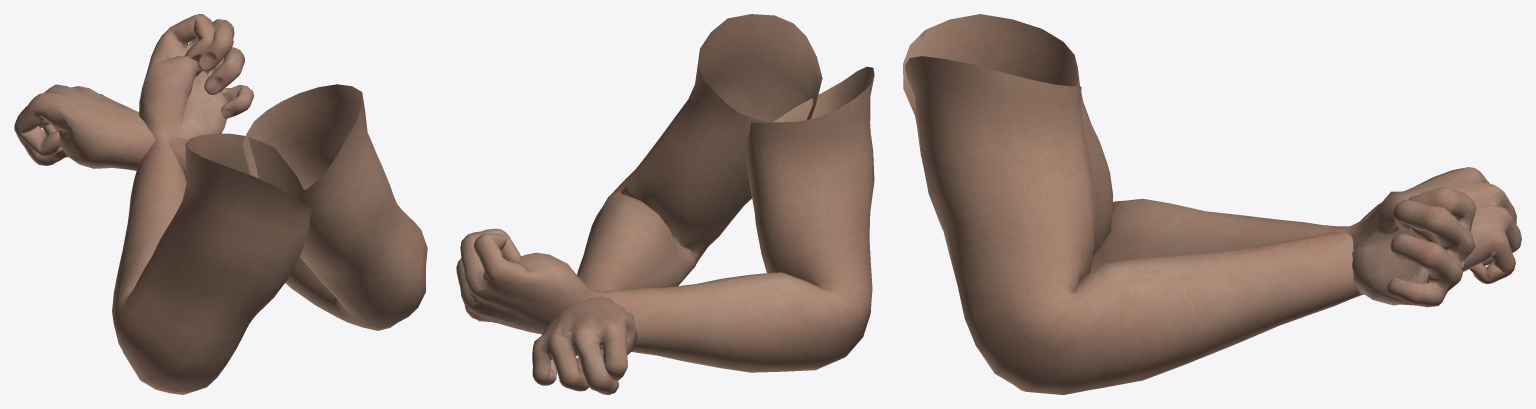
File: arms.glb
3 renders of one model, left to right at view 1: azimuth 30°, elevation 25°; view 2: azimuth 150°, elevation 25°; view 3: azimuth 270°, elevation 25°, orthographic. The views are drawn at different scales.
Parts seen in each view (by area): view 1: arm_left, arm_right; view 2: arm_left, arm_right; view 3: arm_right, arm_left.
Part boxes in pixels (x1,y1,x2,y2): arm_left: (112,14,312,394); arm_right: (14,84,427,330); arm_left: (456,66,874,372); arm_right: (532,14,822,394); arm_right: (905,56,1521,394); arm_left: (903,14,1476,307).
Bounding box in the file's own units: 0.192 × 0.1915 × 0.3209.
1 material, 1 textured.
